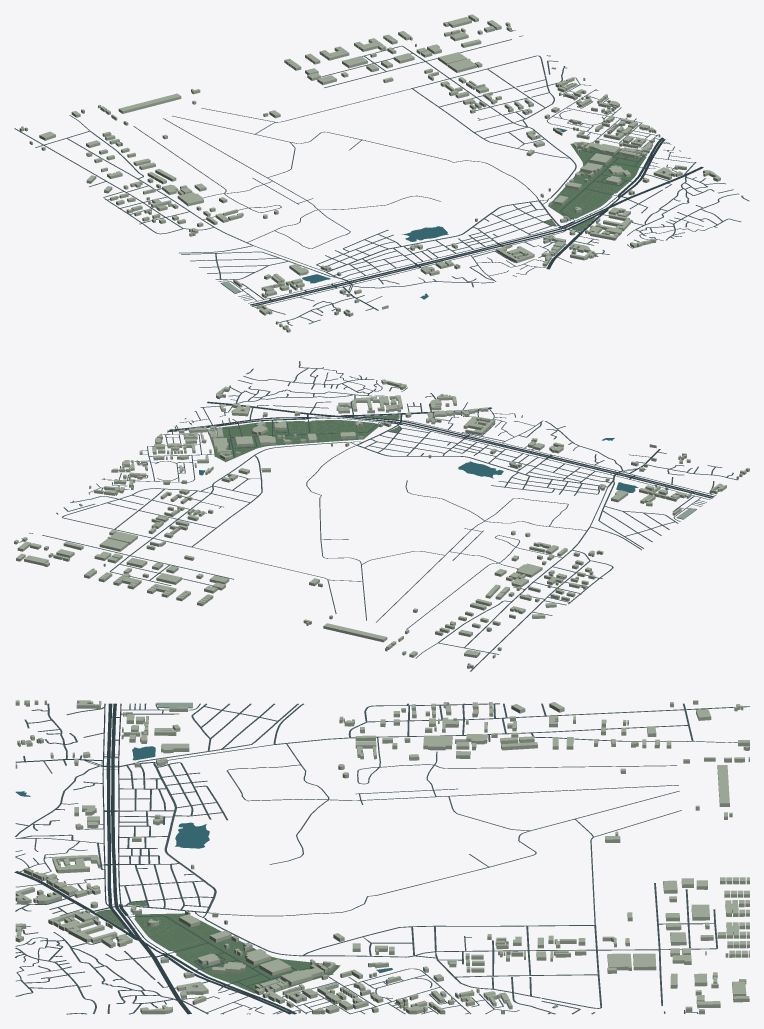
3 views of the same model, one above another, from view 1: azimuth 30°, elevation 25°; view 2: azimuth 150°, elevation 25°; view 3: azimuth 270°, elevation 25° (orthographic). The views are drawn at different scales.
Visible parts, largest first — view 1: building, street, major, green, water, path; view 2: building, street, major, green, water, path; view 3: building, street, green, major, water, path.
Boxes of the visible parts, x1=… form: building: x1=19, y1=14, x2=720, y2=332; street: x1=14, y1=26, x2=749, y2=325; major: x1=248, y1=137, x2=703, y2=310; green: x1=545, y1=143, x2=646, y2=231; water: x1=302, y1=127, x2=567, y2=299; path: x1=328, y1=138, x2=663, y2=288; building: x1=14, y1=379, x2=749, y2=668; street: x1=19, y1=361, x2=737, y2=671; major: x1=168, y1=401, x2=716, y2=499; green: x1=210, y1=414, x2=400, y2=462; water: x1=199, y1=438, x2=638, y2=492; path: x1=168, y1=415, x2=638, y2=479; building: x1=15, y1=700, x2=749, y2=1014; street: x1=15, y1=703, x2=749, y2=1014; green: x1=96, y1=901, x2=340, y2=993; major: x1=14, y1=703, x2=296, y2=1014; water: x1=15, y1=746, x2=392, y2=972; path: x1=97, y1=754, x2=292, y2=1014.
Size of the model in its own units: 2005 by 10.7 by 2005.
